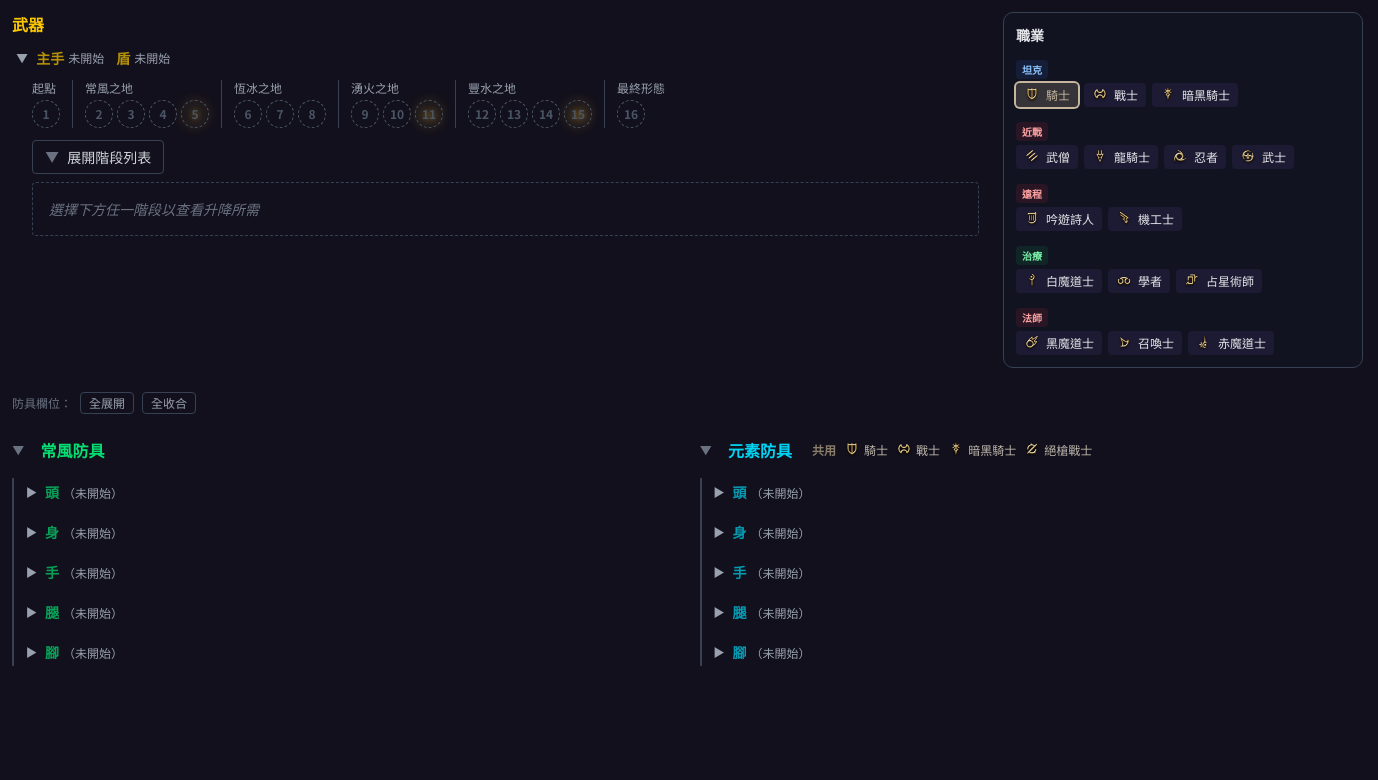
Test: DetailTab › 全收合 button collapses all armor slot accordions
Click the button with aria-label "收合所有防具欄位": (169, 403) [142,392,196,414]
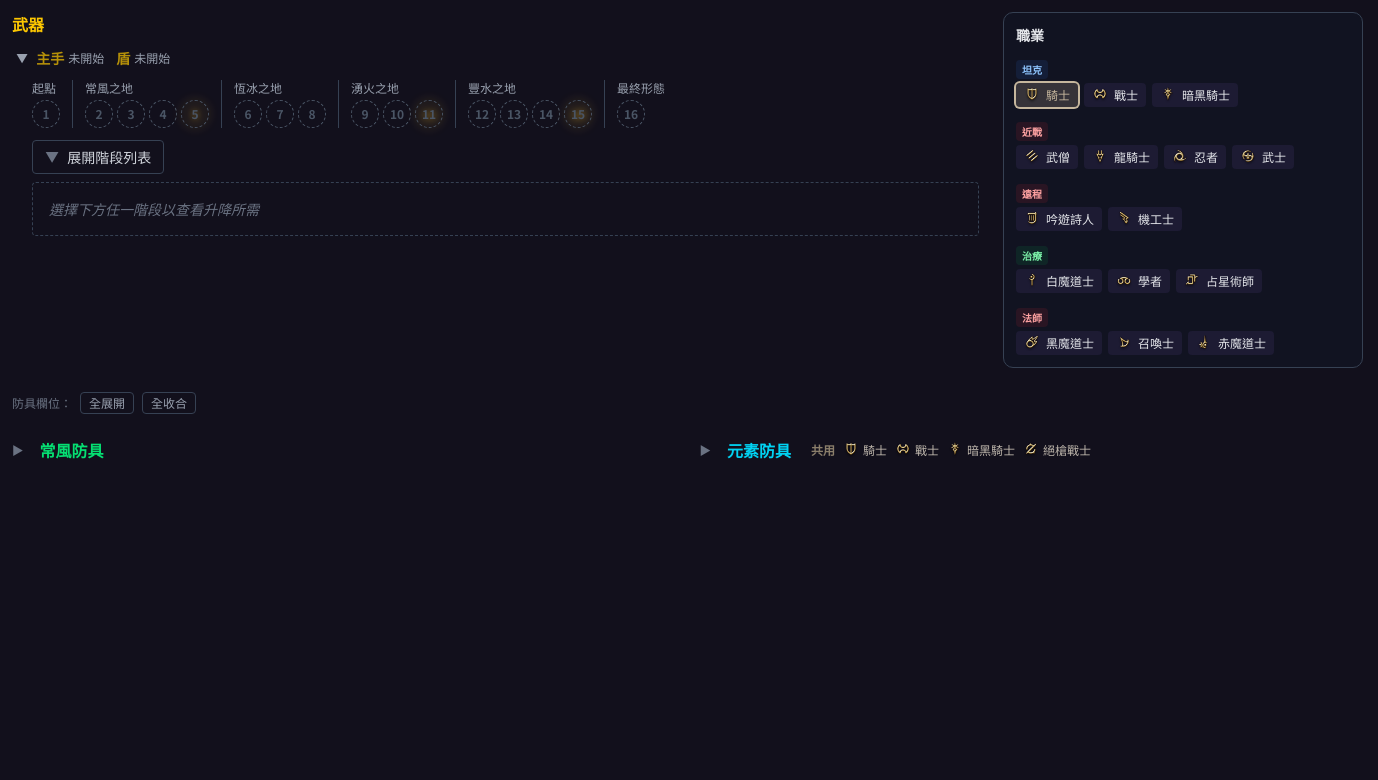
expect the button "▶ 常風防具" is collapsed: met, box [12,438,676,462]
expect the button "▶ 元素防具 共用 騎士 戰士 暗黑騎士 絕槍戰士" is collapsed: met, box [700,438,1363,462]
